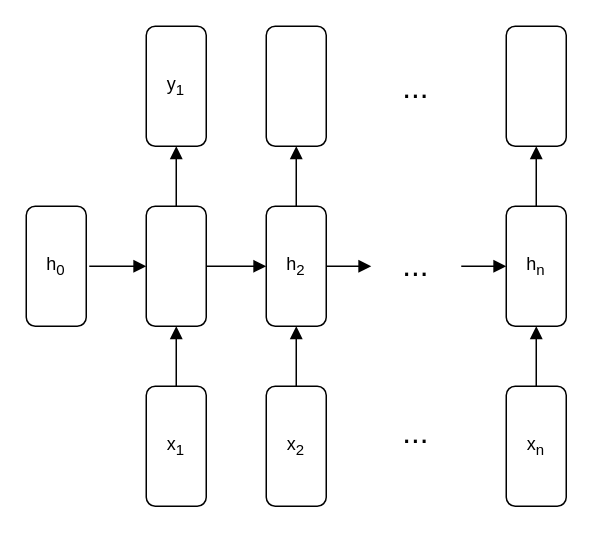
The diagram is 593 pixels wide and 533 high, and some of its shapes have lost their labels. Each missing label, with the box of its shape:
h 1: (145, 205, 206, 326)
y 2: (265, 25, 326, 146)
y n: (505, 25, 566, 146)
